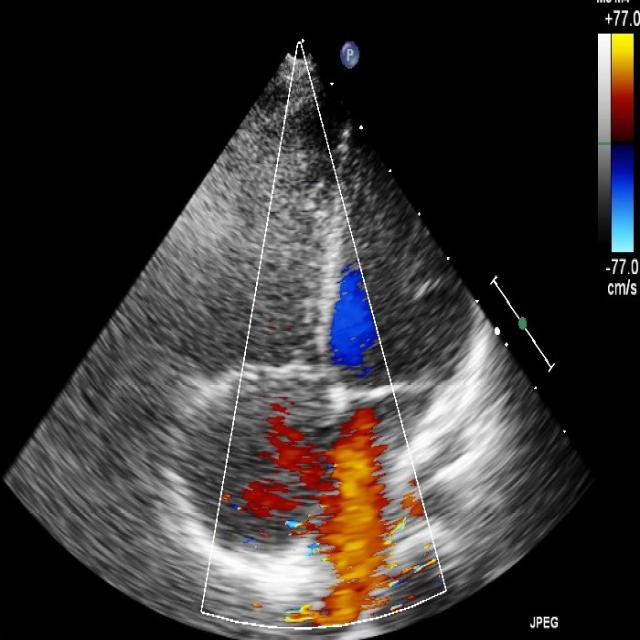ASDType2: (237, 389, 406, 627)
